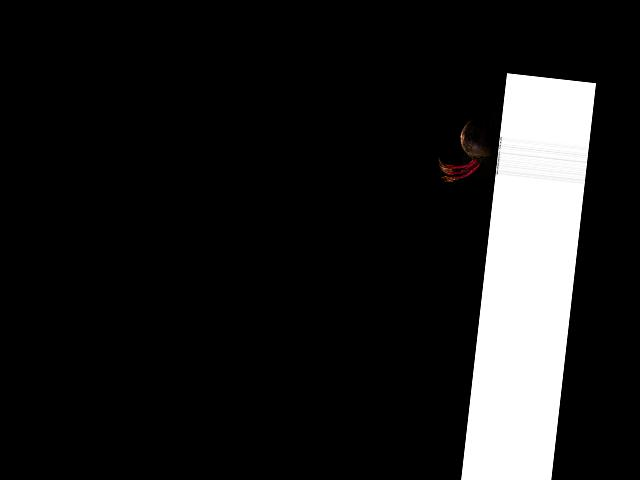beet: (436, 102, 502, 186)
